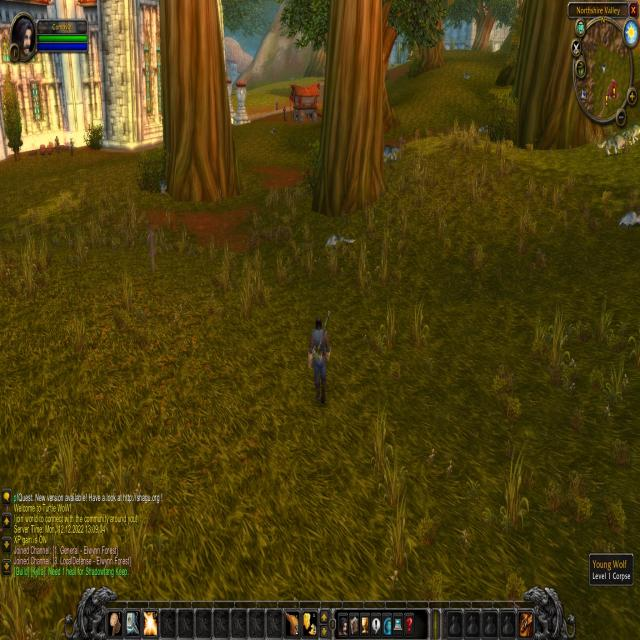wolf: (595, 132, 628, 160), (321, 230, 358, 253), (614, 118, 640, 147), (379, 137, 403, 167), (616, 207, 640, 230), (151, 175, 170, 198), (474, 120, 492, 135), (461, 69, 472, 82), (268, 126, 280, 137)
